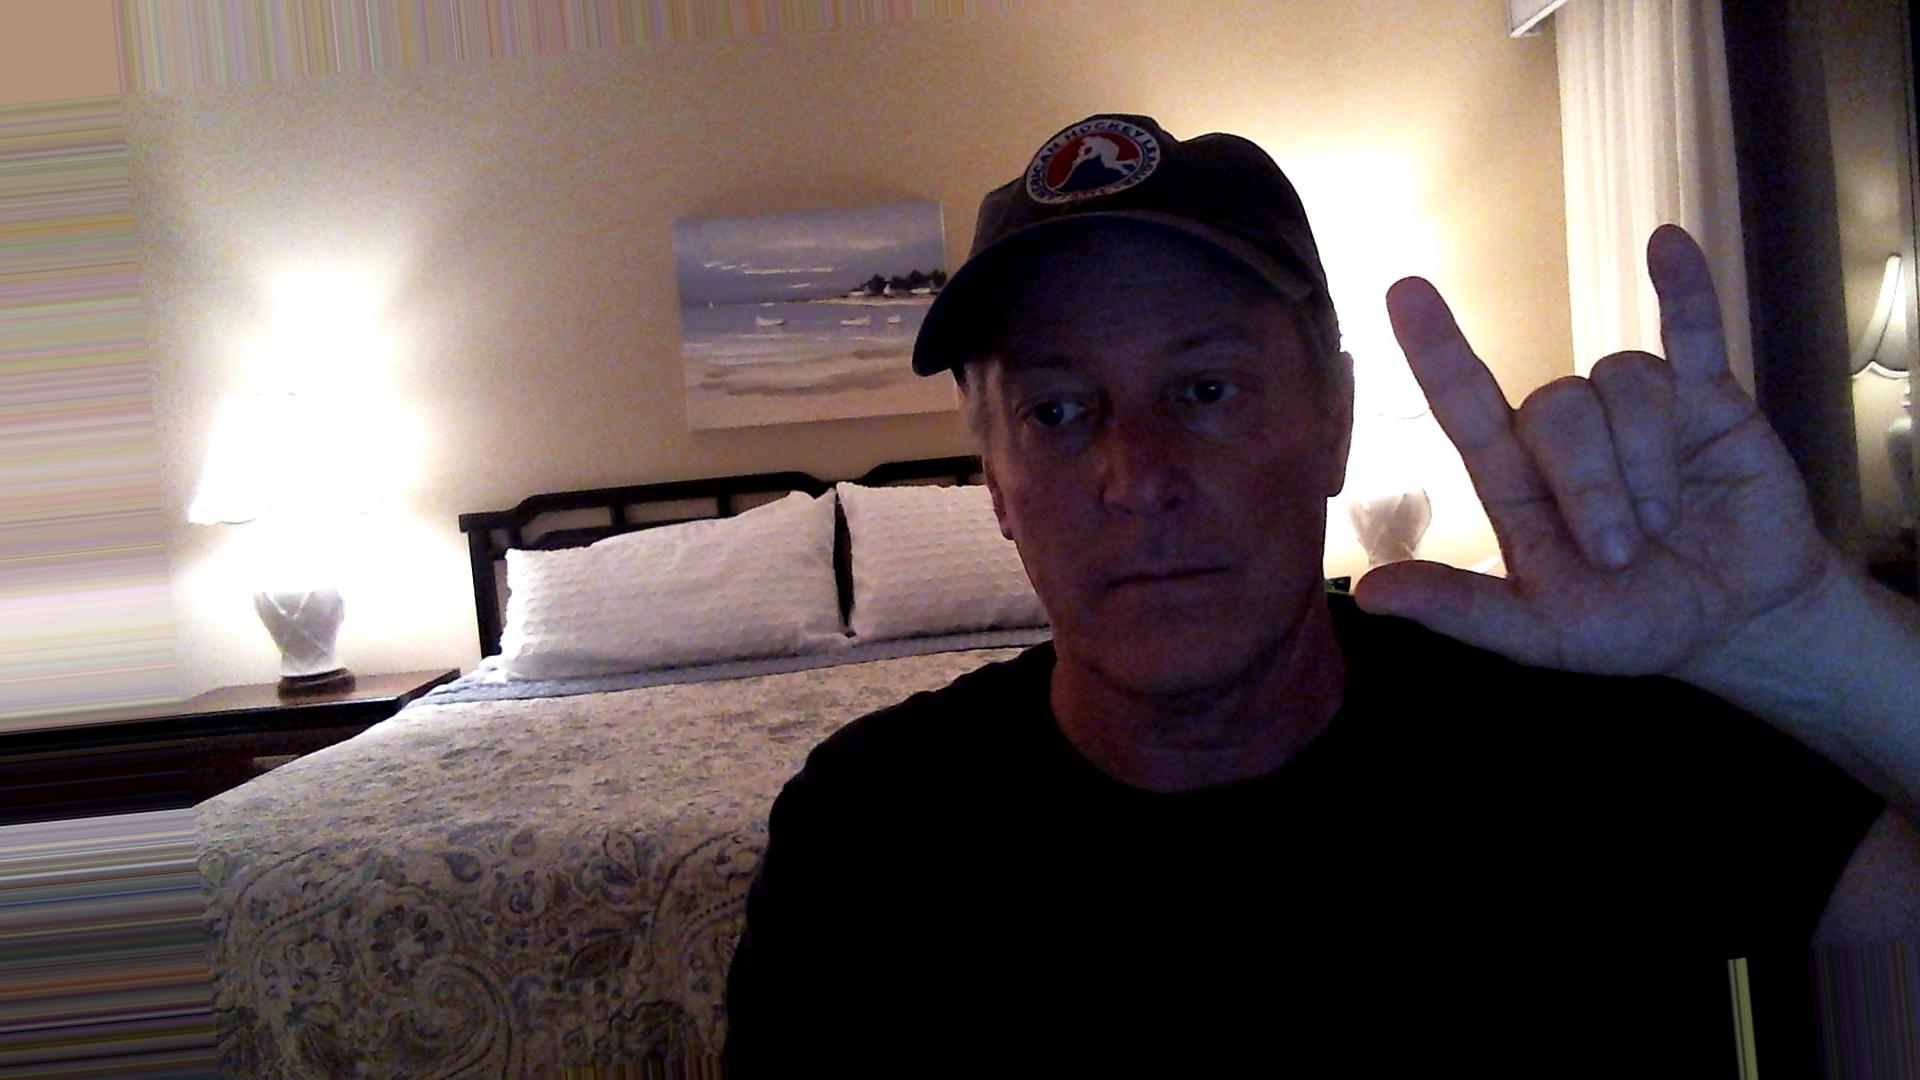I Love You: (1346, 206, 1849, 690)
